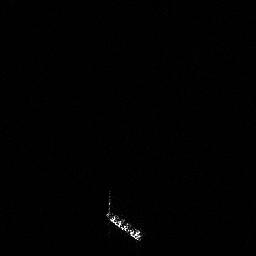ship: (102, 186, 146, 245)
